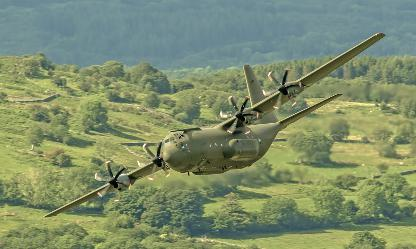Be200: (43, 32, 387, 217)
